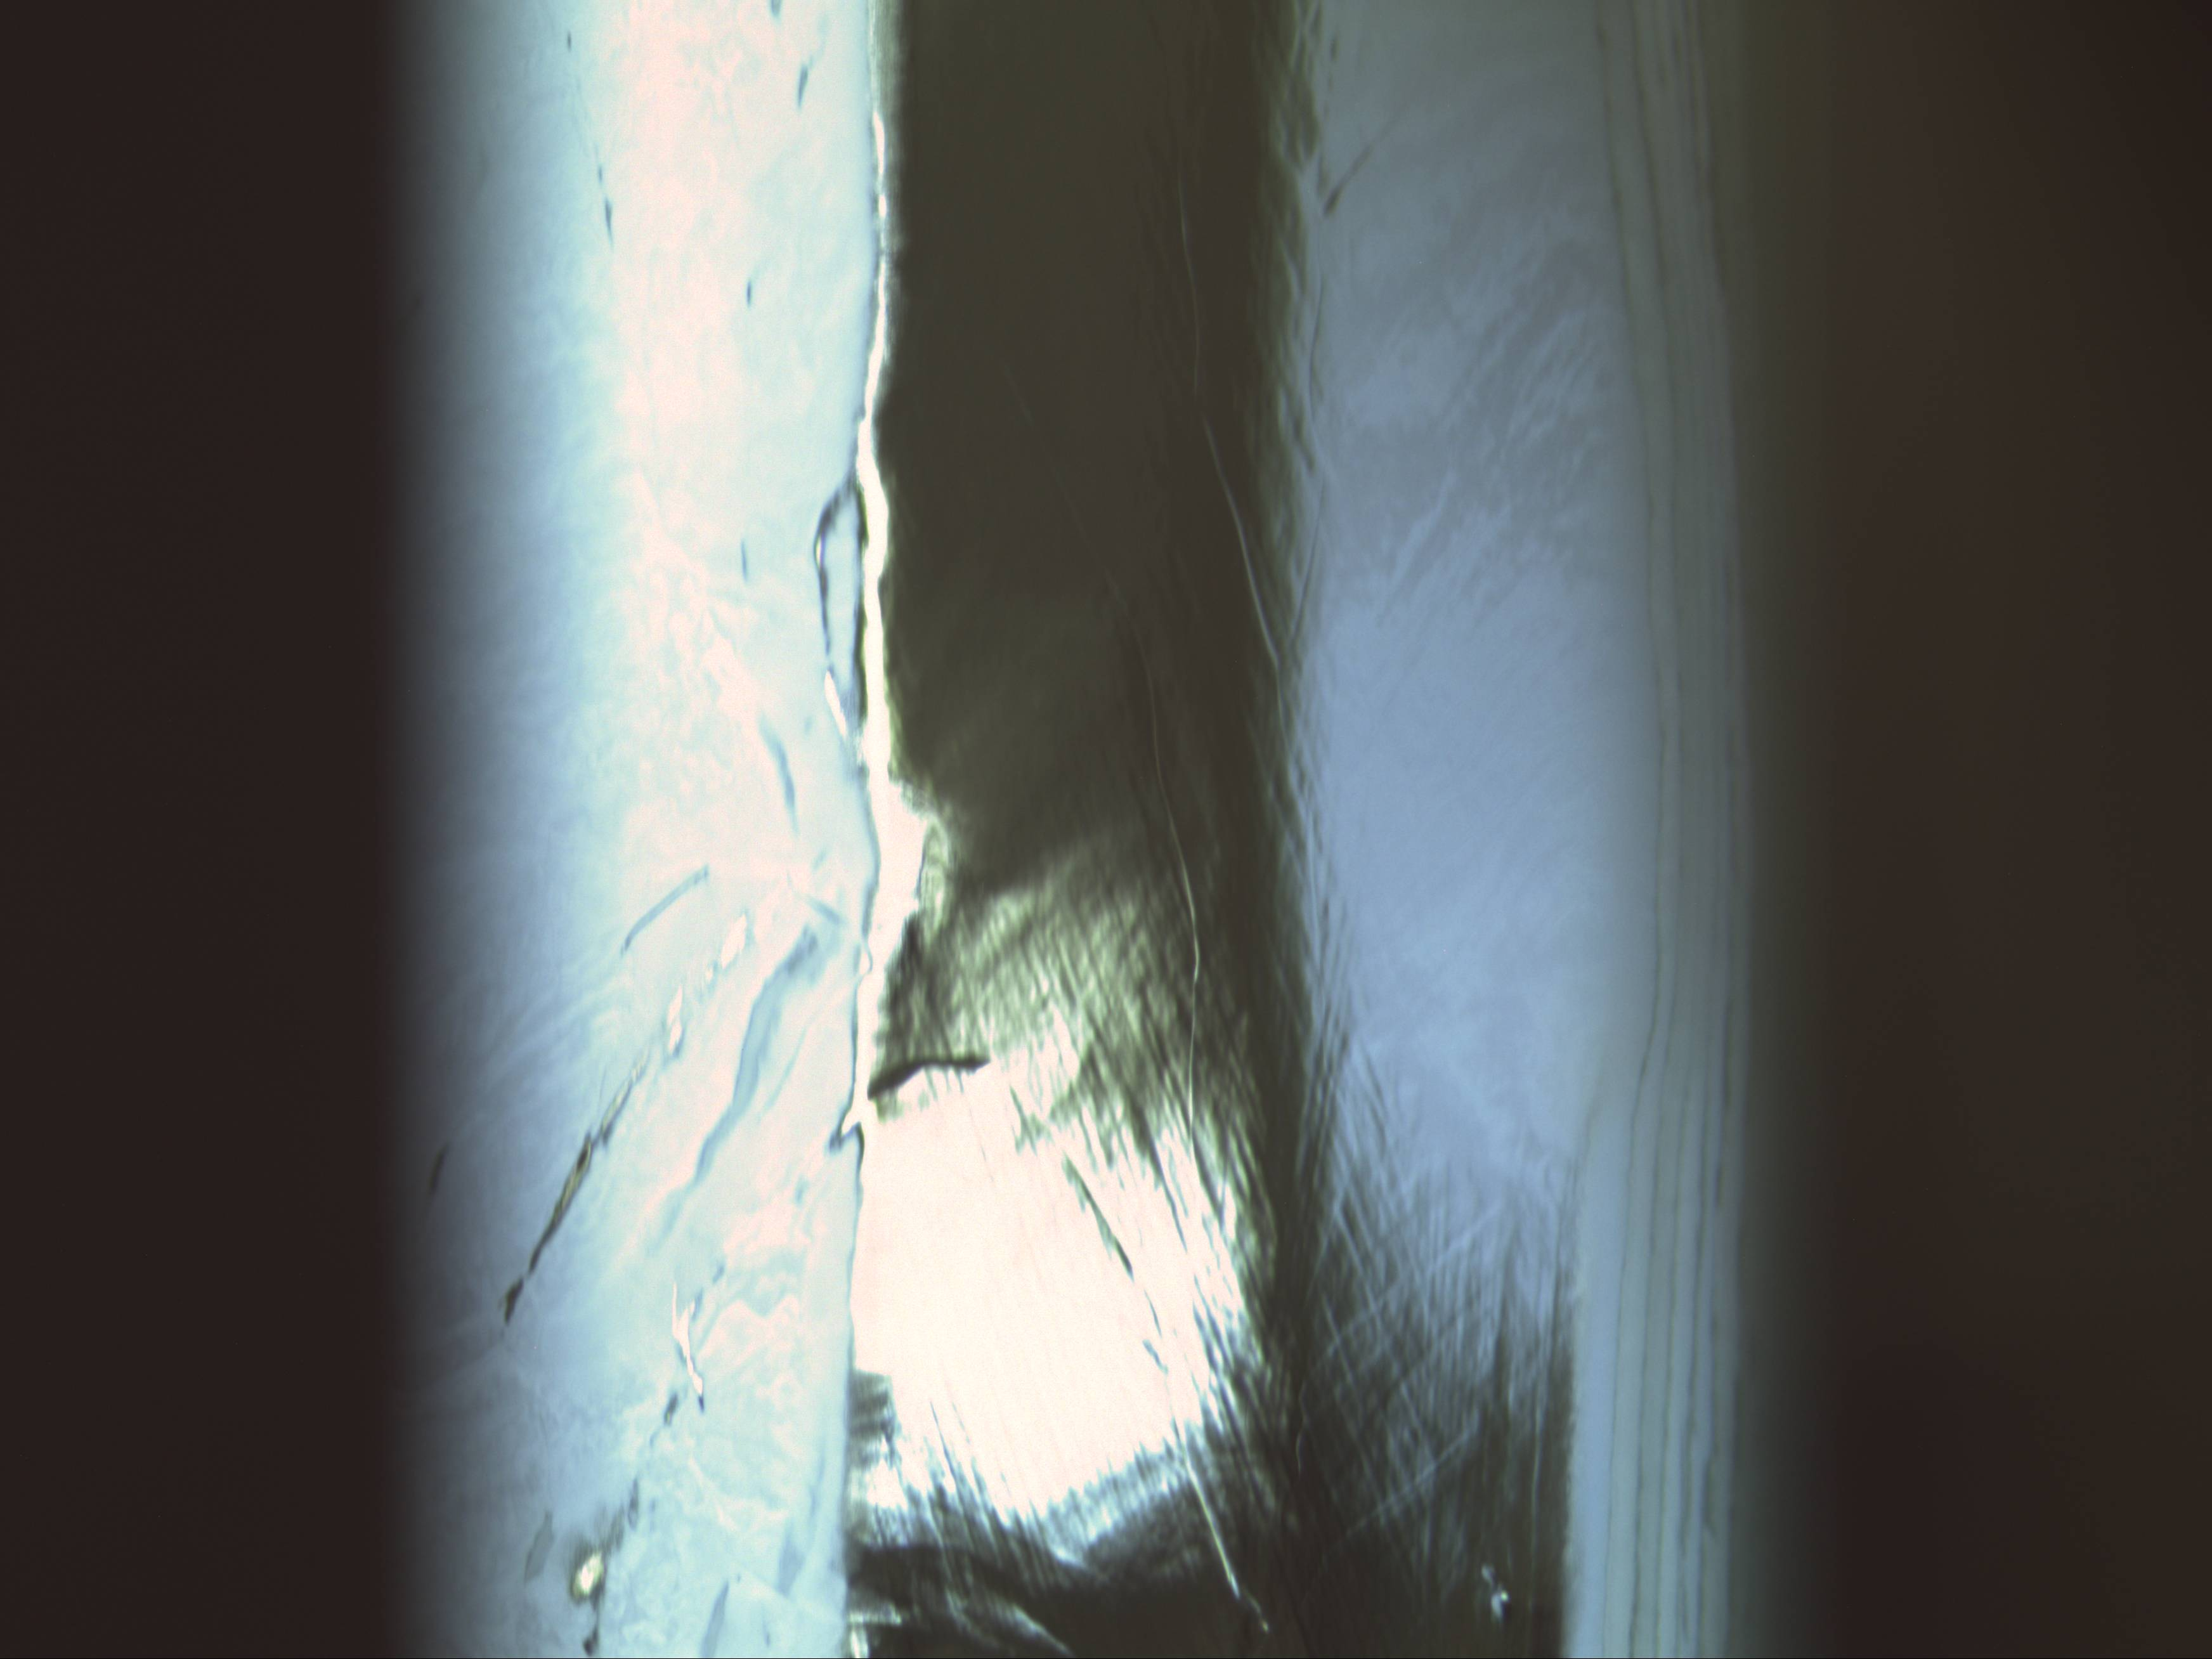defect: (1477, 1589, 1521, 1622)
